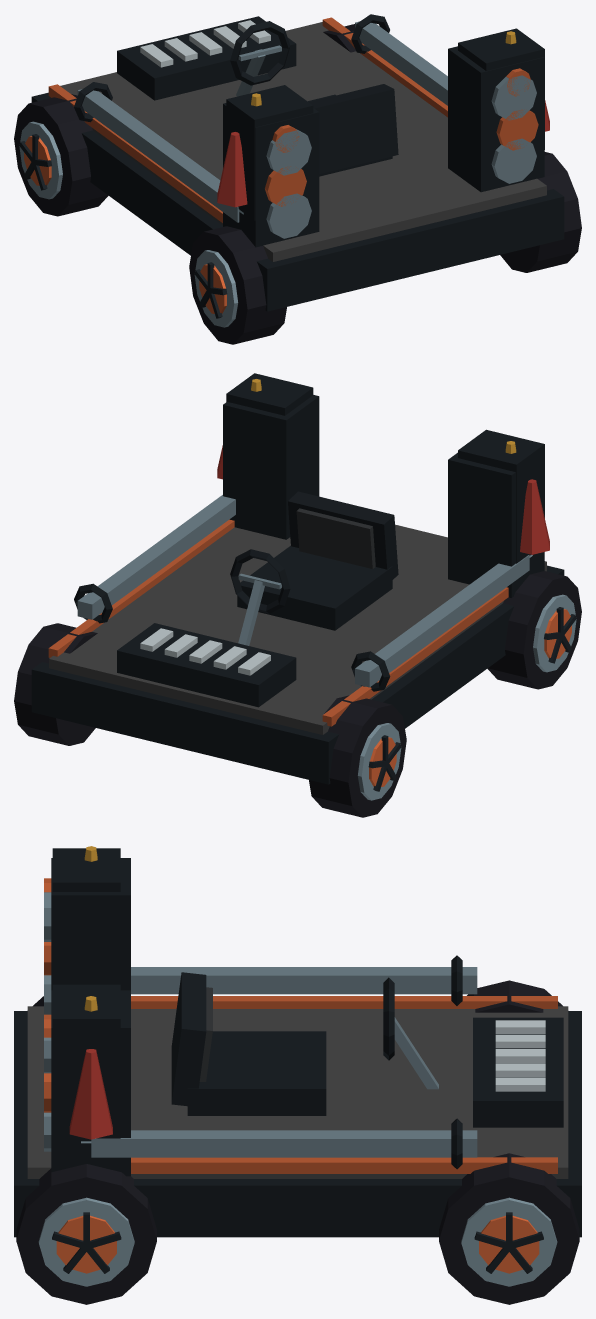
Rendered from kart.glb.
3 renders of one model, top to bottom at view 1: azimuth 30°, elevation 25°; view 2: azimuth 150°, elevation 25°; view 3: azimuth 270°, elevation 25°, orthographic. The views are drawn at different scales.
Visible parts, largest first — view 1: identity-stage-stage-platform-and-pa-towers, identity-stage-motif-speakers, identity-stage-driver-cockpit, identity-stage-motif-pipes, wheel-rear-left, wheel-front-left, wheel-rear-right, identity-stage-motif-fire; view 2: identity-stage-stage-platform-and-pa-towers, identity-stage-driver-cockpit, identity-stage-motif-pipes, wheel-front-left, wheel-rear-left, identity-stage-motif-speakers, wheel-front-right, identity-stage-motif-fire; view 3: identity-stage-stage-platform-and-pa-towers, identity-stage-motif-pipes, identity-stage-driver-cockpit, wheel-front-right, wheel-rear-right, identity-stage-motif-speakers, identity-stage-motif-fire, wheel-front-left.
Part boxes in pixels (x1=…): identity-stage-stage-platform-and-pa-towers: x1=31, y1=16, x2=564, y2=311; identity-stage-motif-speakers: x1=226, y1=28, x2=544, y2=220; identity-stage-driver-cockpit: x1=230, y1=21, x2=398, y2=176; identity-stage-motif-pipes: x1=74, y1=14, x2=447, y2=222; wheel-rear-left: x1=189, y1=226, x2=286, y2=344; wheel-front-left: x1=14, y1=94, x2=108, y2=216; wheel-rear-right: x1=500, y1=152, x2=581, y2=272; identity-stage-motif-fire: x1=217, y1=31, x2=549, y2=207; identity-stage-stage-platform-and-pa-towers: x1=31, y1=395, x2=564, y2=784; identity-stage-driver-cockpit: x1=230, y1=491, x2=398, y2=645; identity-stage-motif-pipes: x1=74, y1=495, x2=532, y2=691; wheel-front-left: x1=309, y1=695, x2=406, y2=817; wheel-rear-left: x1=487, y1=571, x2=581, y2=689; identity-stage-motif-speakers: x1=226, y1=373, x2=544, y2=563; wheel-front-right: x1=14, y1=623, x2=97, y2=745; identity-stage-motif-fire: x1=217, y1=379, x2=549, y2=554; identity-stage-stage-platform-and-pa-towers: x1=14, y1=858, x2=581, y2=1237; identity-stage-motif-pipes: x1=81, y1=955, x2=477, y2=1169; identity-stage-driver-cockpit: x1=171, y1=972, x2=438, y2=1115; wheel-front-right: x1=439, y1=1153, x2=579, y2=1304; wheel-rear-right: x1=16, y1=1164, x2=156, y2=1304; identity-stage-motif-speakers: x1=44, y1=848, x2=120, y2=1140; identity-stage-motif-fire: x1=69, y1=846, x2=112, y2=1139; wheel-front-left: x1=467, y1=980, x2=562, y2=1012.
Bounding box in the file's own units: 2.16 × 1.38 × 2.5.
